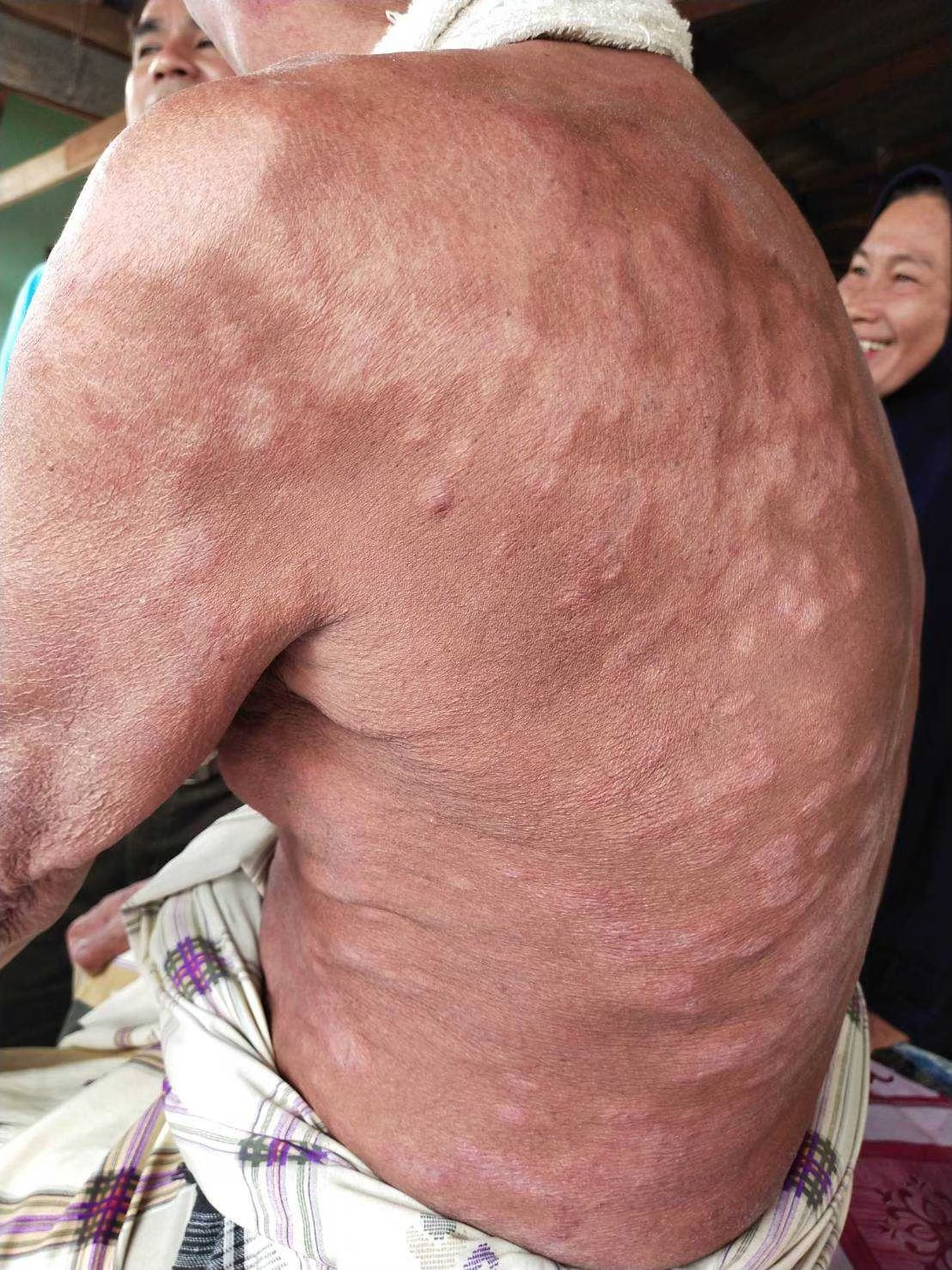Leprosy: (116, 98, 595, 569), (589, 101, 843, 665), (0, 312, 258, 802), (553, 211, 842, 609), (251, 83, 560, 413), (369, 1101, 774, 1239), (550, 922, 753, 1097), (573, 737, 788, 856), (765, 944, 846, 1147), (671, 743, 787, 814)
